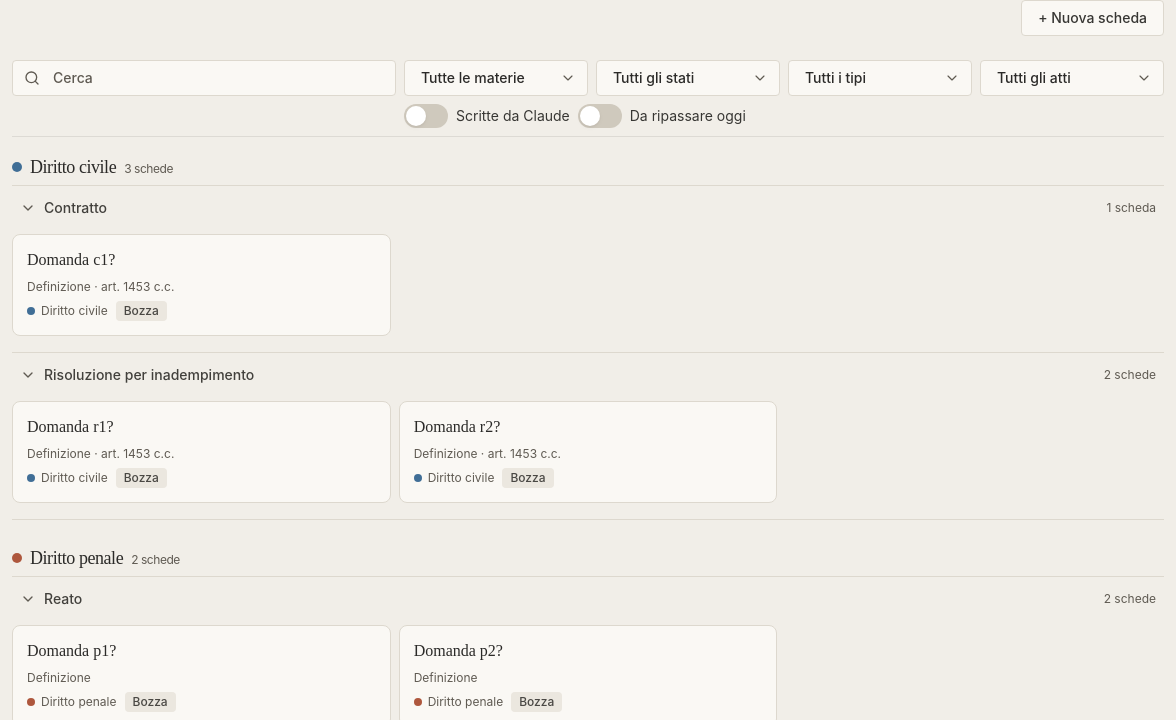
Test: «Le mie schede», the detail › replaces the list on a phone, and «Indietro» returns to it
This screenshot has width=1176, height=720.
Click the link "Domanda r1?". click: (70, 426)
box: [12,401,391,503]
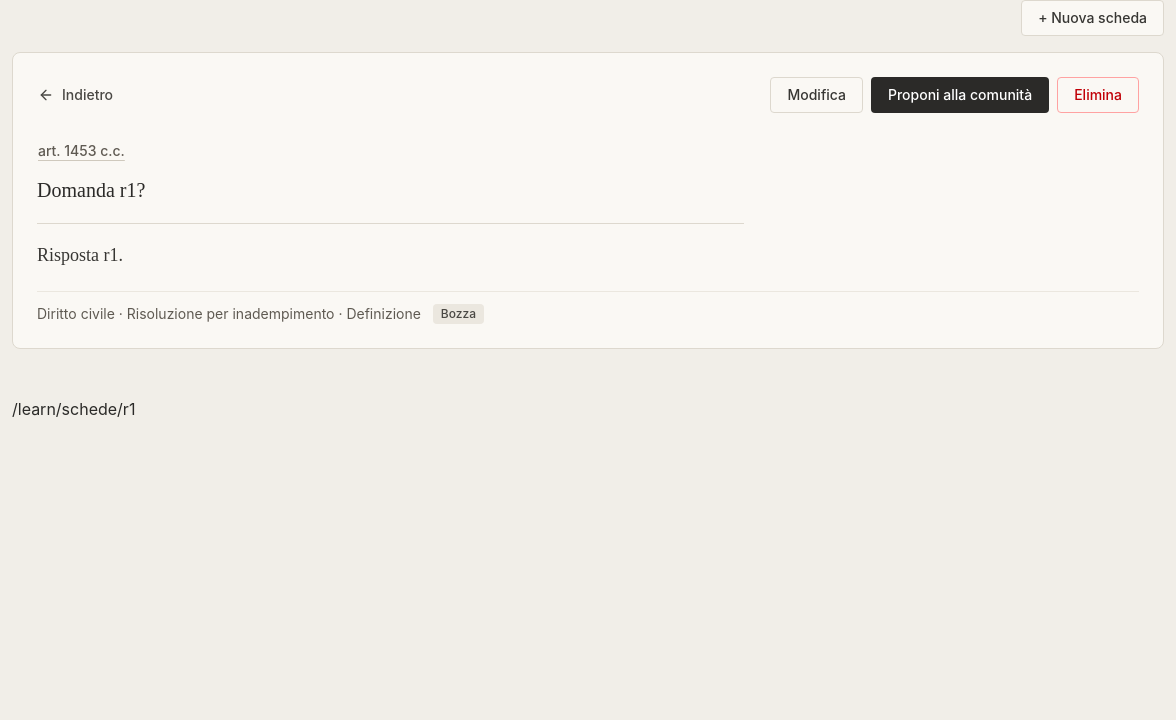
Result: no links are shown
Click the button "Indietro". click: (76, 95)
box: [29,77,122,113]
(page scrolled)
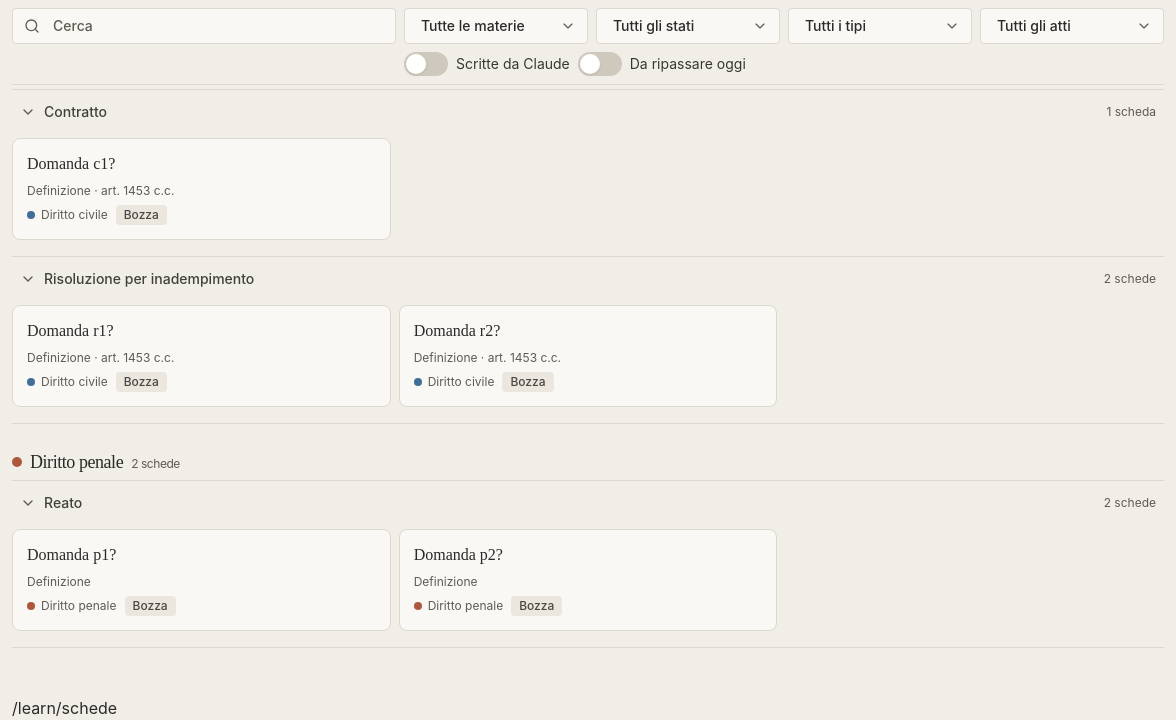
Result: the text with test id "where" reads "/learn/schede" at [12,698,117,718]
Result: the number of links is 5 at [12,138,391,240]; [12,305,391,407]; [399,305,777,407]; [12,529,391,631]; [399,529,777,631]
